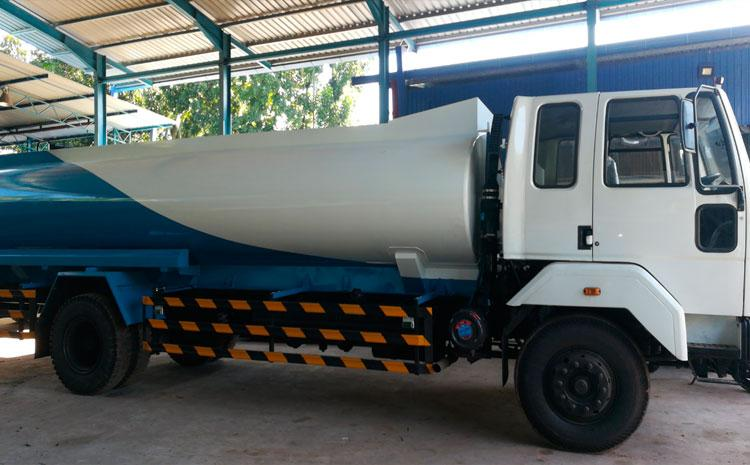truck: (1, 87, 750, 454)
